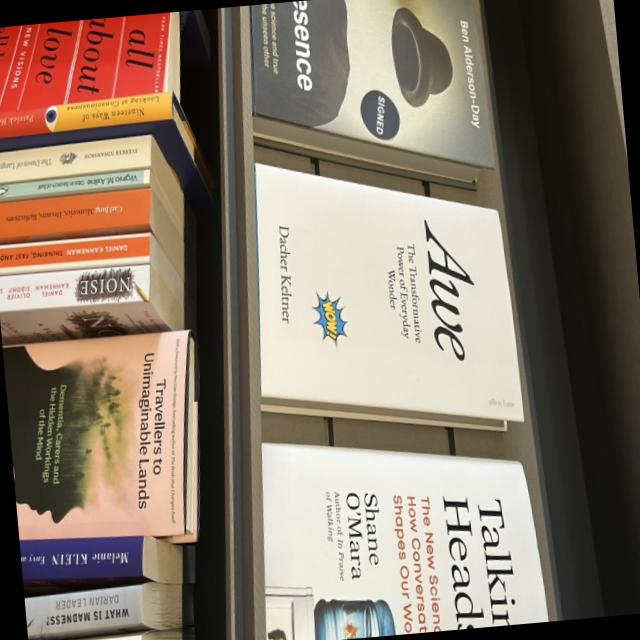book: (247, 163, 529, 431), (261, 442, 547, 640), (2, 329, 211, 549), (249, 0, 493, 186), (0, 89, 215, 232), (0, 117, 193, 225), (0, 173, 192, 279), (0, 11, 185, 112), (0, 222, 188, 306), (0, 260, 184, 345), (0, 155, 182, 224), (19, 531, 194, 593), (23, 579, 194, 640), (68, 628, 192, 640)
